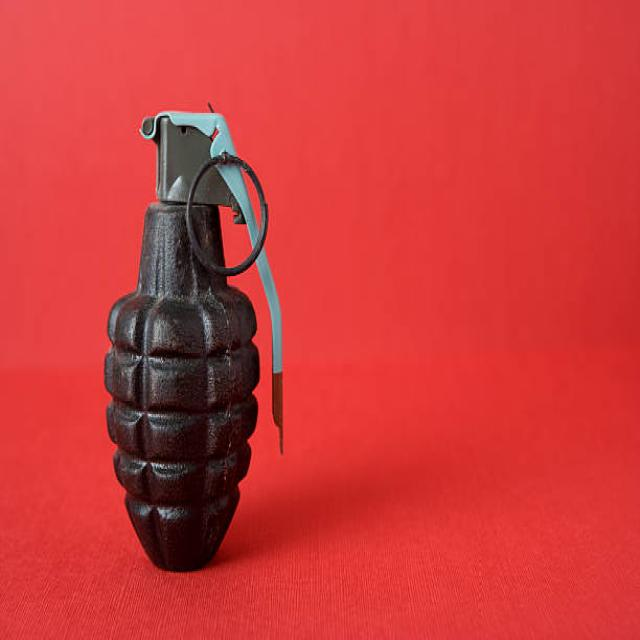grenade: (101, 88, 291, 583)
